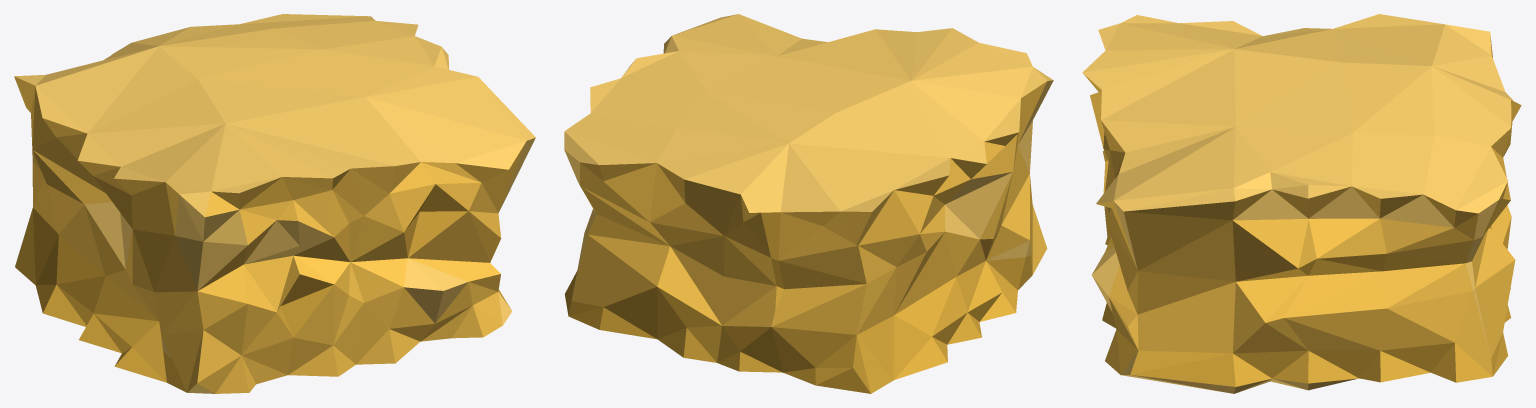
Rendered from EA_M_HayBale_Square_Yellow_01e.fbx.
3 renders of one model, left to right at view 1: azimuth 30°, elevation 25°; view 2: azimuth 150°, elevation 25°; view 3: azimuth 270°, elevation 25°, orthographic. The views are drawn at different scales.
Visible parts, largest first — view 1: EA_M_HayBale_Square_Yellow_01e_LOD0; view 2: EA_M_HayBale_Square_Yellow_01e_LOD0; view 3: EA_M_HayBale_Square_Yellow_01e_LOD0.
Part boxes in pixels (x1,y1,x2,y2): EA_M_HayBale_Square_Yellow_01e_LOD0: (14,14,535,393); EA_M_HayBale_Square_Yellow_01e_LOD0: (564,14,1053,393); EA_M_HayBale_Square_Yellow_01e_LOD0: (1082,14,1521,393).
Size of what is drawn, in the model's own units: 1.43 by 0.8093 by 1.39.
